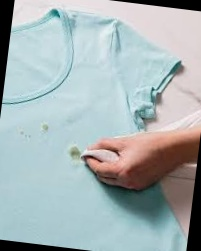oil: (64, 142, 82, 164), (38, 122, 52, 136), (17, 130, 33, 141)
